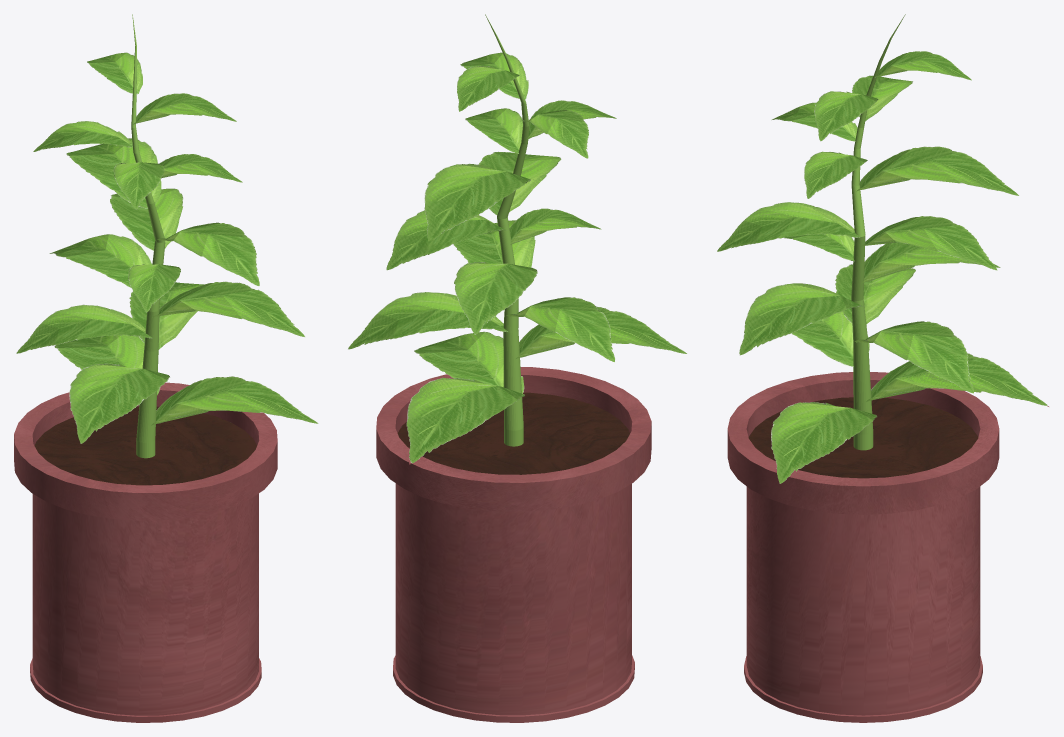
File: small_plant.gltf
3 views of the same model, side by side, from view 1: azimuth 30°, elevation 25°; view 2: azimuth 150°, elevation 25°; view 3: azimuth 270°, elevation 25° (orthographic). The views are drawn at different scales.
Parts seen in each view (by area): view 1: plant; view 2: plant; view 3: plant.
Part boxes in pixels (x1=…): plant: x1=14, y1=14, x2=318, y2=722; plant: x1=348, y1=14, x2=686, y2=722; plant: x1=717, y1=14, x2=1048, y2=722.
Size of the model in its own units: 0.7286 by 1.8 by 0.8242.
Materials: 1 (1 with a texture image).
